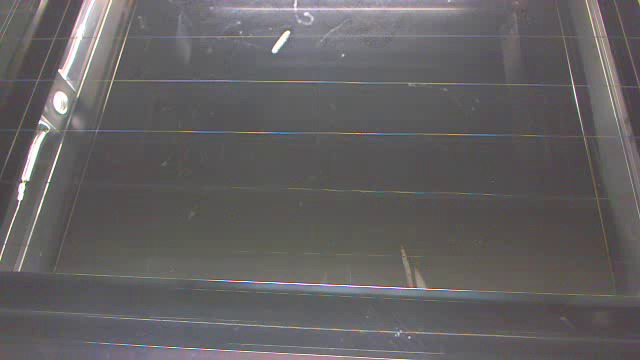alpha: (269, 27, 293, 57), (399, 243, 412, 288), (416, 269, 425, 287)
